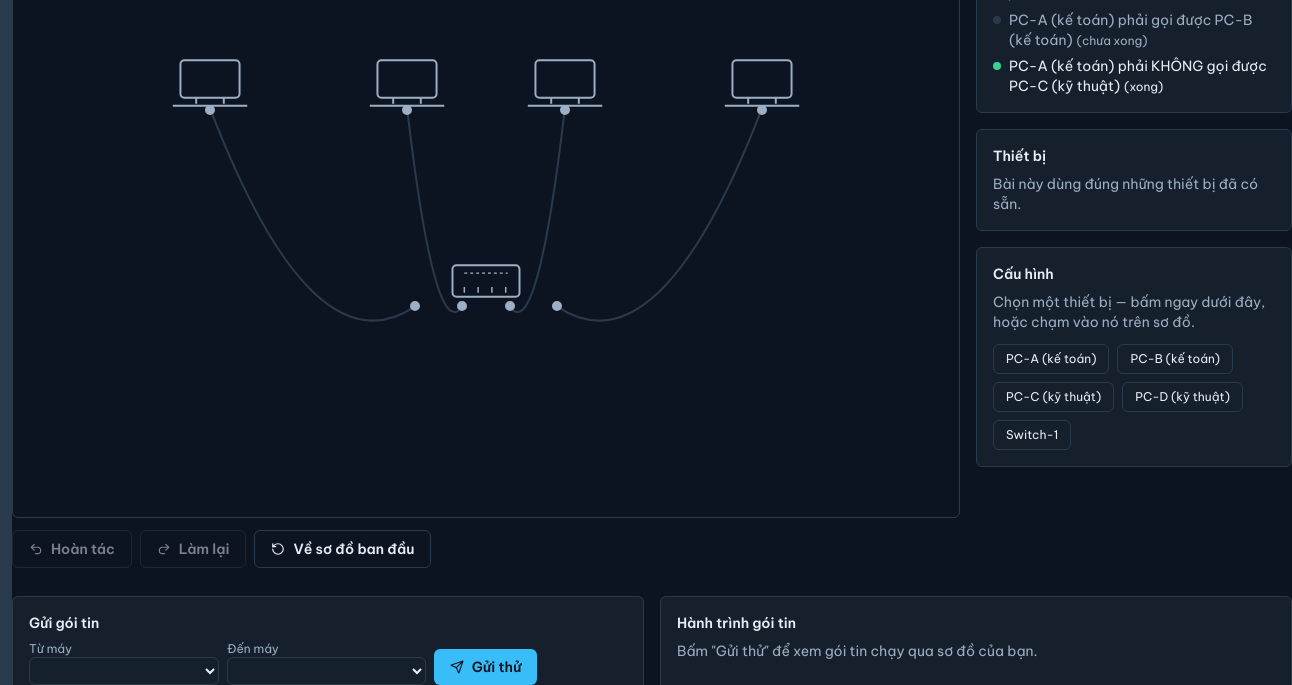
Scenario: gửi gói tin › NHÁNH DỰ PHÒNG VẪN GIAO TRỌN BÀI HỌC: nhật ký chặng đầy đủ dù không có animation
expect the text "Bấm \"Gửi thử\" để xem gói tin chạy qua sơ đồ của bạn." is shown: met, box [677,642,1038,660]
What coordinates should you click on to do the following:
click the button "Gửi thử"
I would click on:
 (486, 667)
Its box is [434,649,537,684].
(page scrolled)
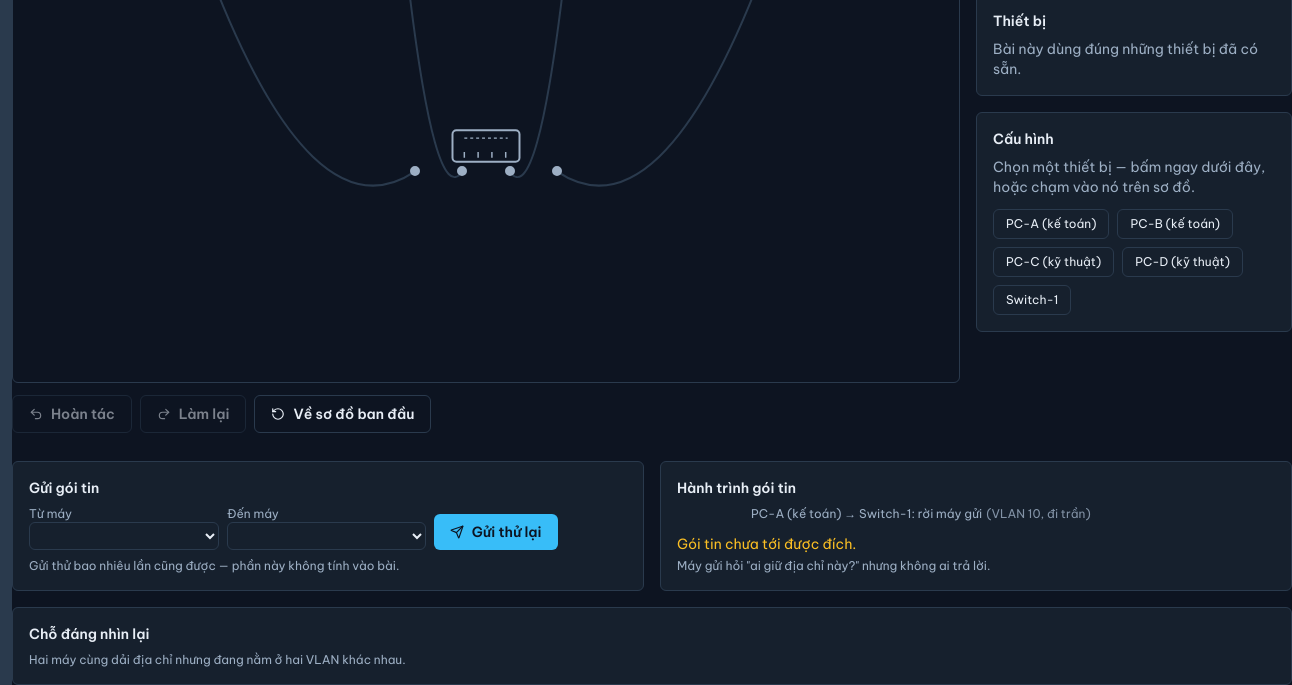
expect the list that starts with "Hỏi địa chỉ" shows "rời máy gửi": met, box [751,506,982,521]
expect the text "Gói tin chưa tới được đích." is shown: met, box [677,535,856,553]
